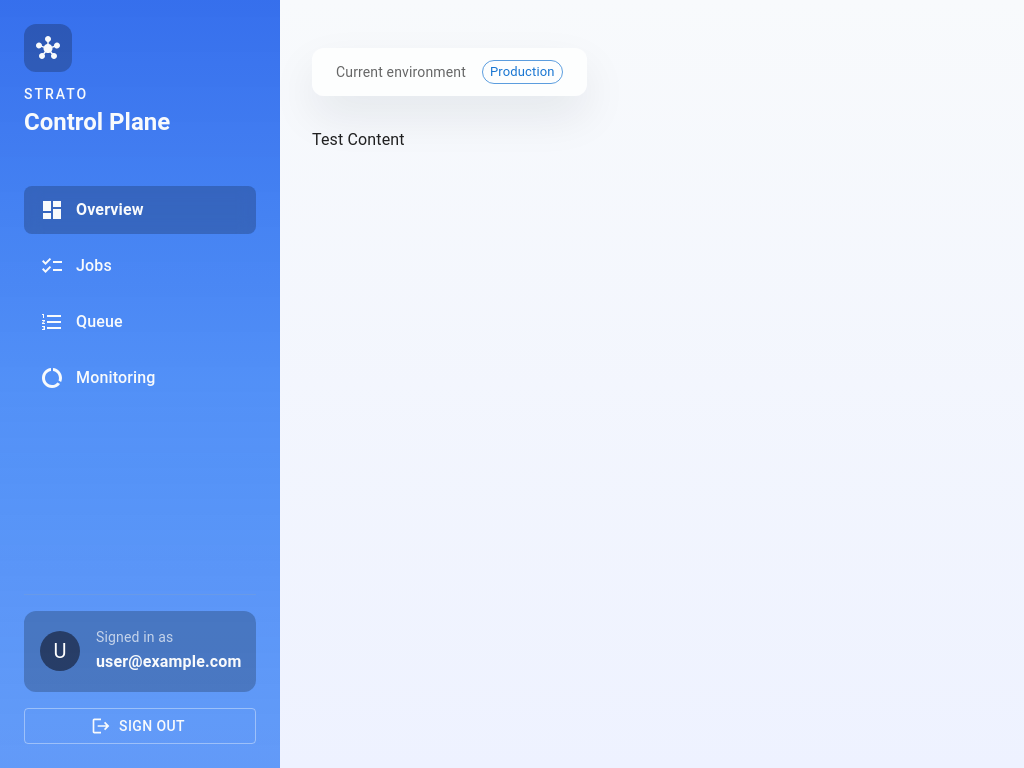
DashboardShell › Profile Button › opens logout confirmation dialog when logout button is clicked
Click the button "Sign out".
click(140, 726)  # box [24,708,256,744]
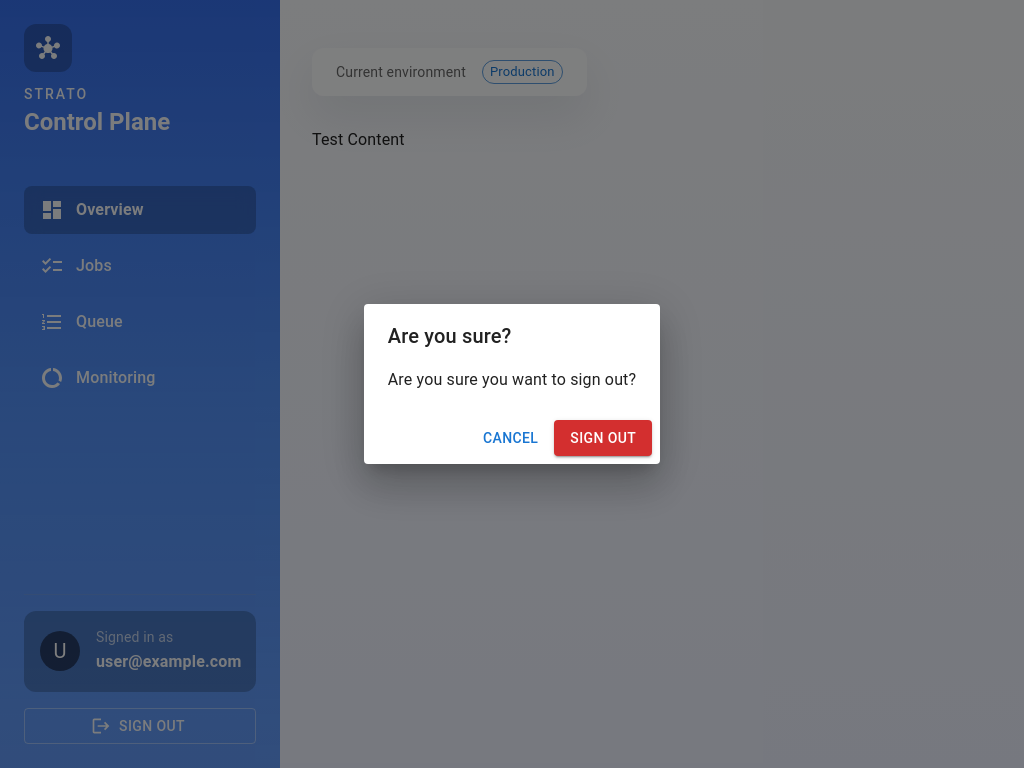
Now the heading "Are you sure?" is shown, box [388,324,512,348]
Now the text "Are you sure you want to sign out?" is shown, box [388,368,636,392]
